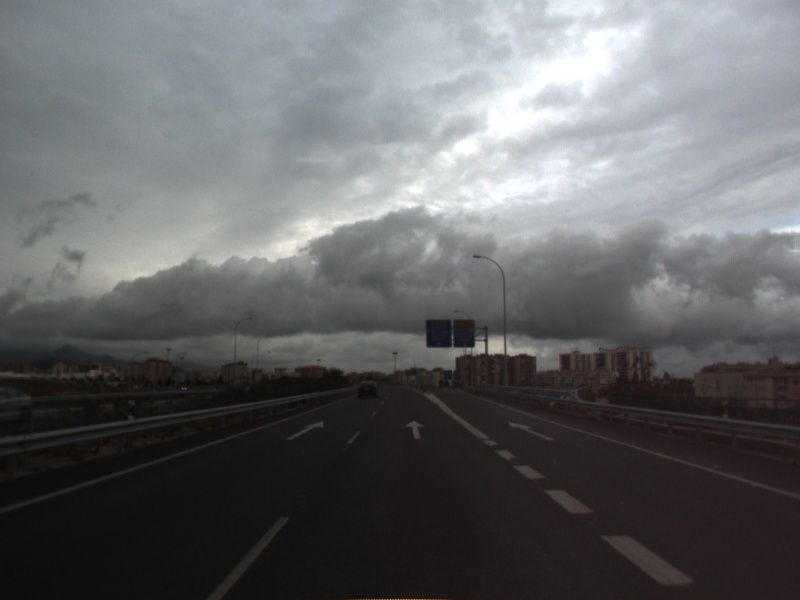STRAIGHT: (507, 419, 556, 442), (284, 419, 326, 442), (402, 418, 427, 441)
